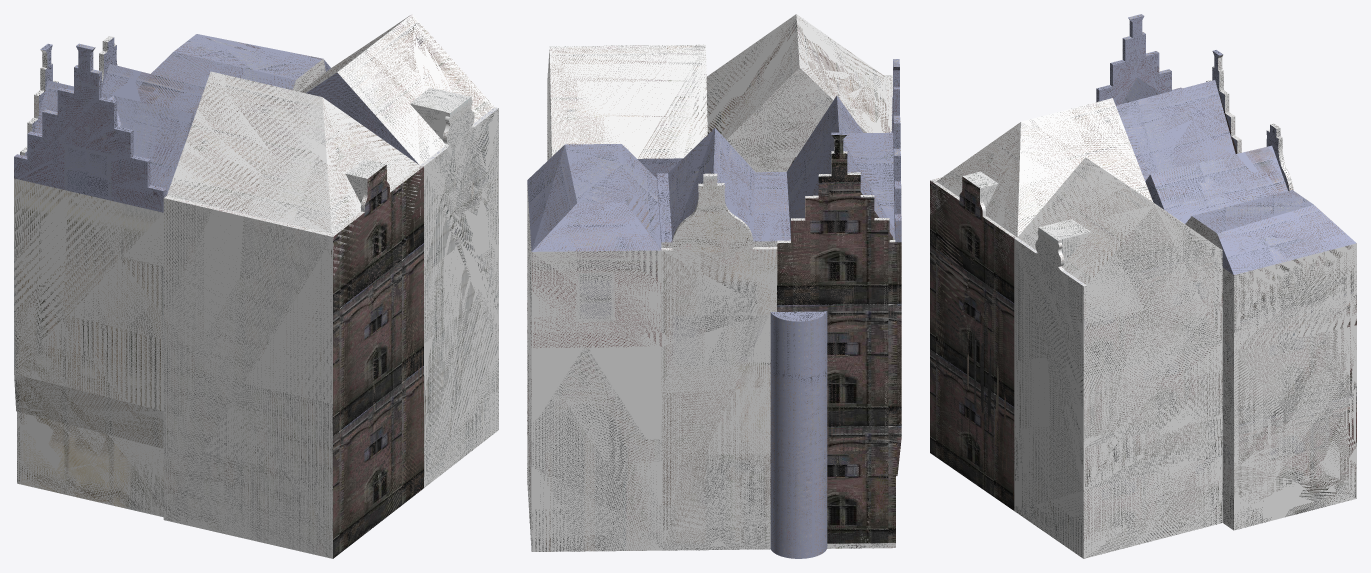
File: House7.fbx
3 views of the same model, side by side, from view 1: azimuth 30°, elevation 25°; view 2: azimuth 150°, elevation 25°; view 3: azimuth 270°, elevation 25° (orthographic). The views are drawn at different scales.
Parts seen in each view (by area): view 1: Model; view 2: Model; view 3: Model.
Boxes of the visible parts, left/top/right/bottom form: Model: left=14, top=14, right=498, bottom=558; Model: left=527, top=14, right=901, bottom=558; Model: left=930, top=14, right=1356, bottom=558.
Bounding box in the file's own units: 14.35 × 14.8 × 14.89.
